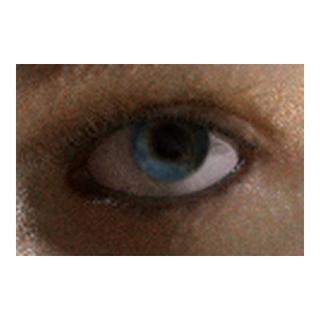pupil: (155, 126, 184, 155)
